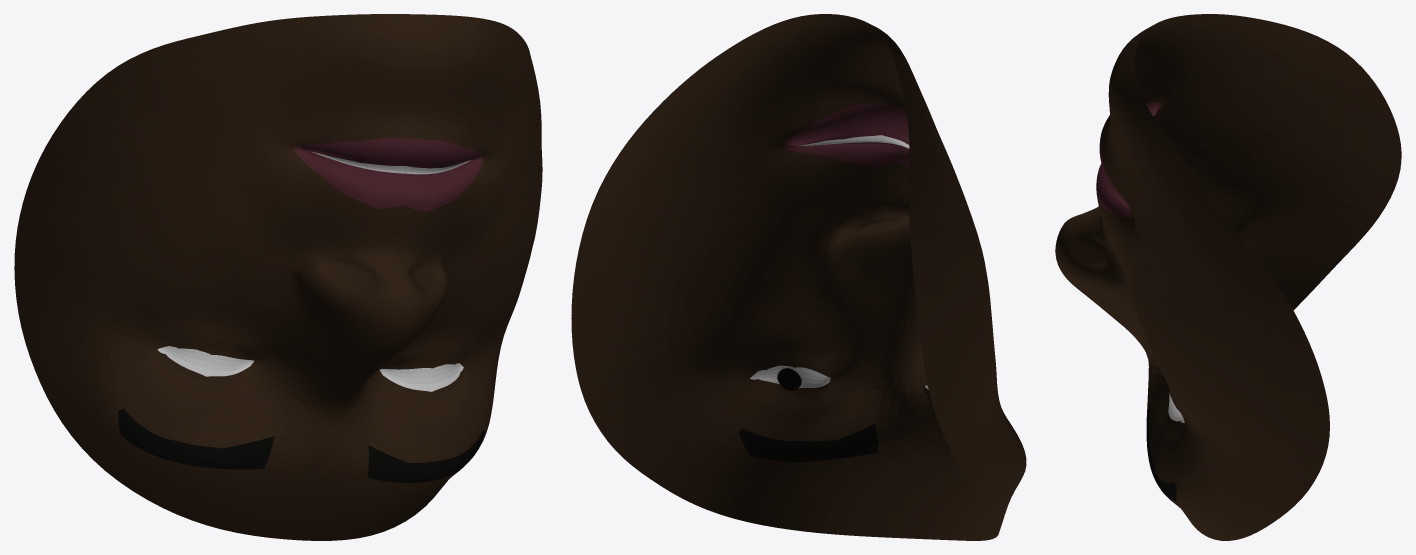
Rendered from VID-20250515-WA0008_f_00750.obj.
3 views of the same model, side by side, from view 1: azimuth 30°, elevation 25°; view 2: azimuth 150°, elevation 25°; view 3: azimuth 270°, elevation 25° (orthographic). The views are drawn at different scales.
Parts seen in each view (by area): view 1: face_mesh_subdivided; view 2: face_mesh_subdivided; view 3: face_mesh_subdivided.
Boxes of the visible parts, x1=… form: face_mesh_subdivided: x1=14, y1=14, x2=542, y2=540; face_mesh_subdivided: x1=571, y1=14, x2=1026, y2=540; face_mesh_subdivided: x1=1055, y1=14, x2=1401, y2=540.
Bounding box in the file's own units: 0.3862 × 0.4365 × 0.2877.
